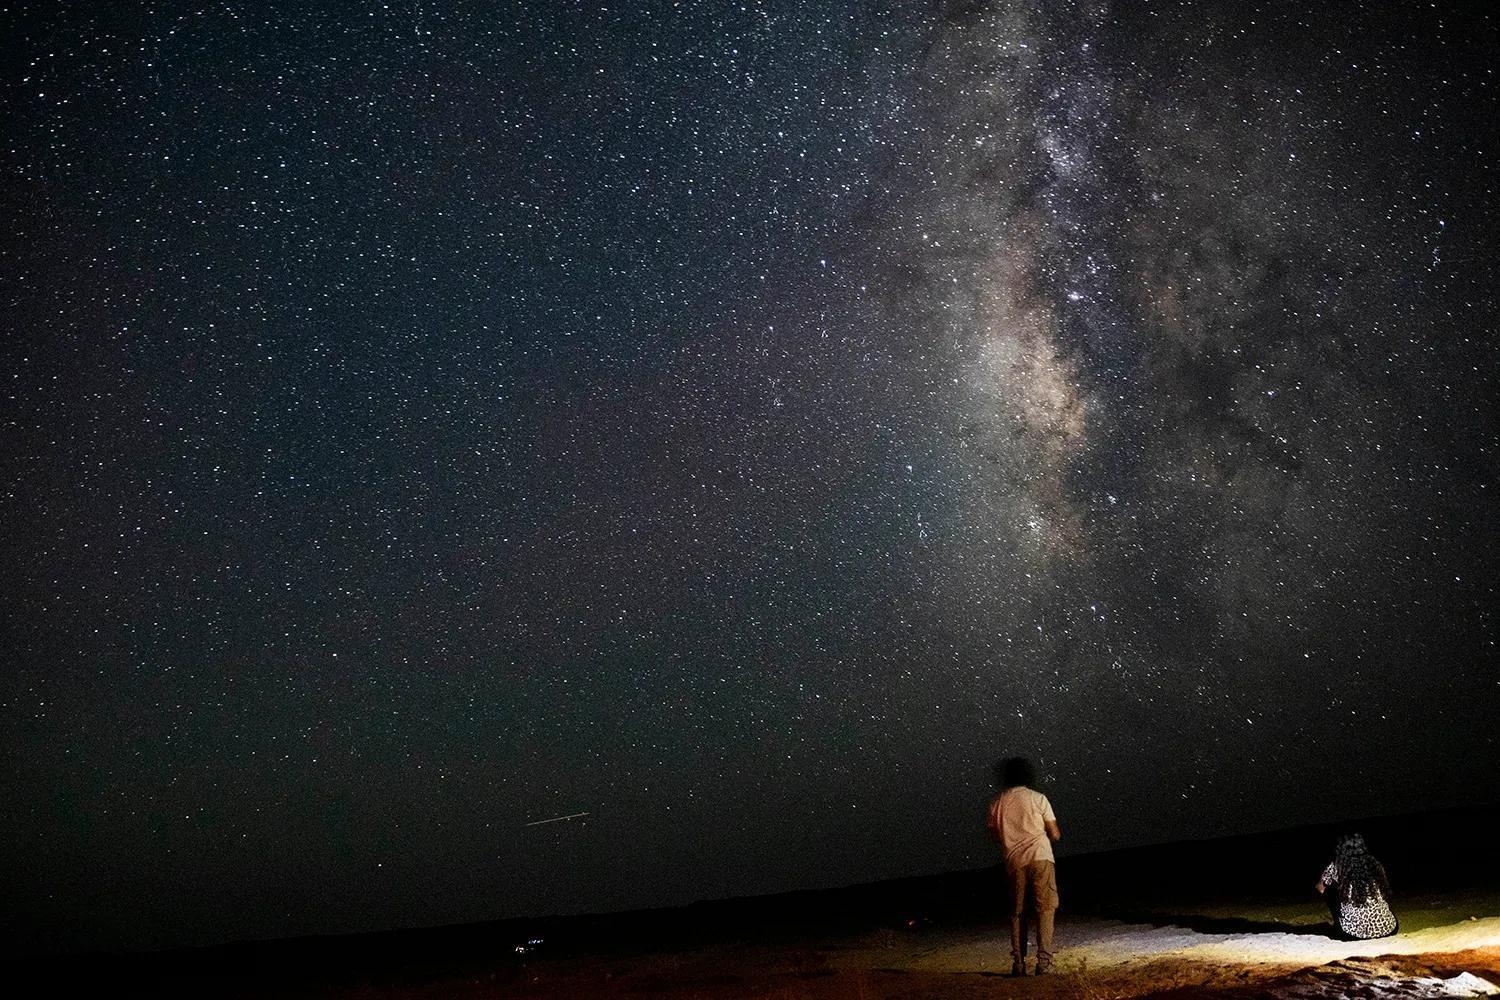meteorite: (506, 806, 597, 833)
